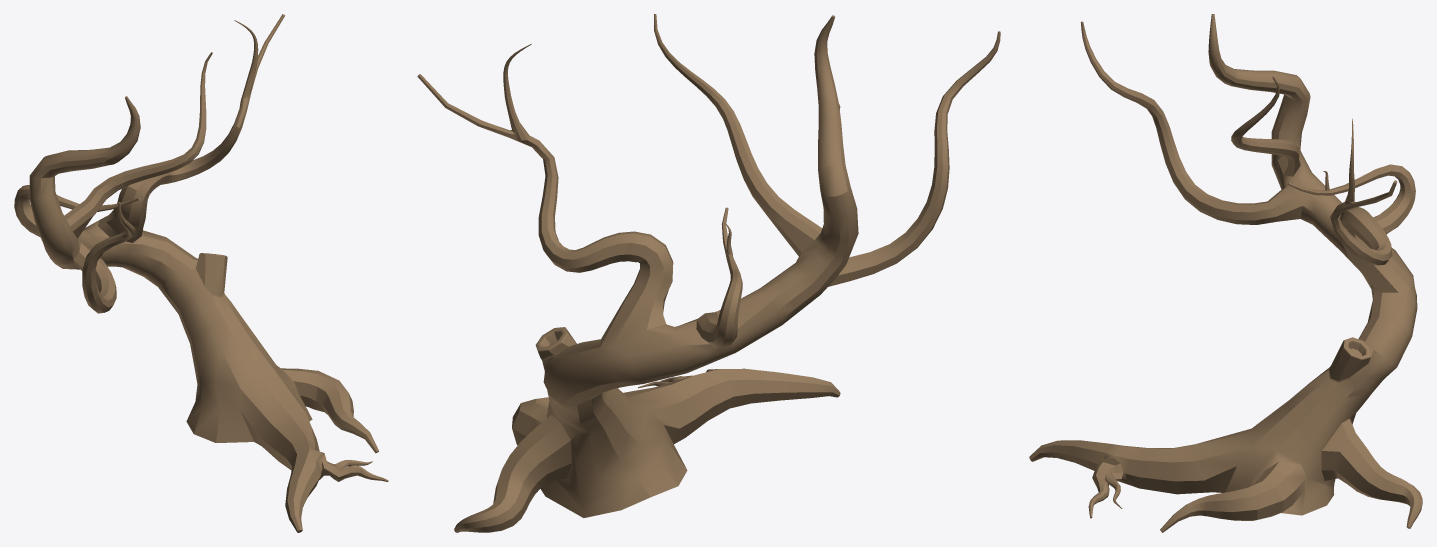
The model's file is Tree_no_leaves.fbx.
3 views of the same model, side by side, from view 1: azimuth 30°, elevation 25°; view 2: azimuth 150°, elevation 25°; view 3: azimuth 270°, elevation 25° (orthographic). The views are drawn at different scales.
Parts seen in each view (by area): view 1: polySurface427; view 2: polySurface427; view 3: polySurface427.
Boxes of the visible parts, x1,y1,x2,y2 form: polySurface427: (14,14,388,532); polySurface427: (417,14,1000,532); polySurface427: (1029,14,1422,532).
Size of the model in its own units: 5.25 by 6.27 by 5.45.
